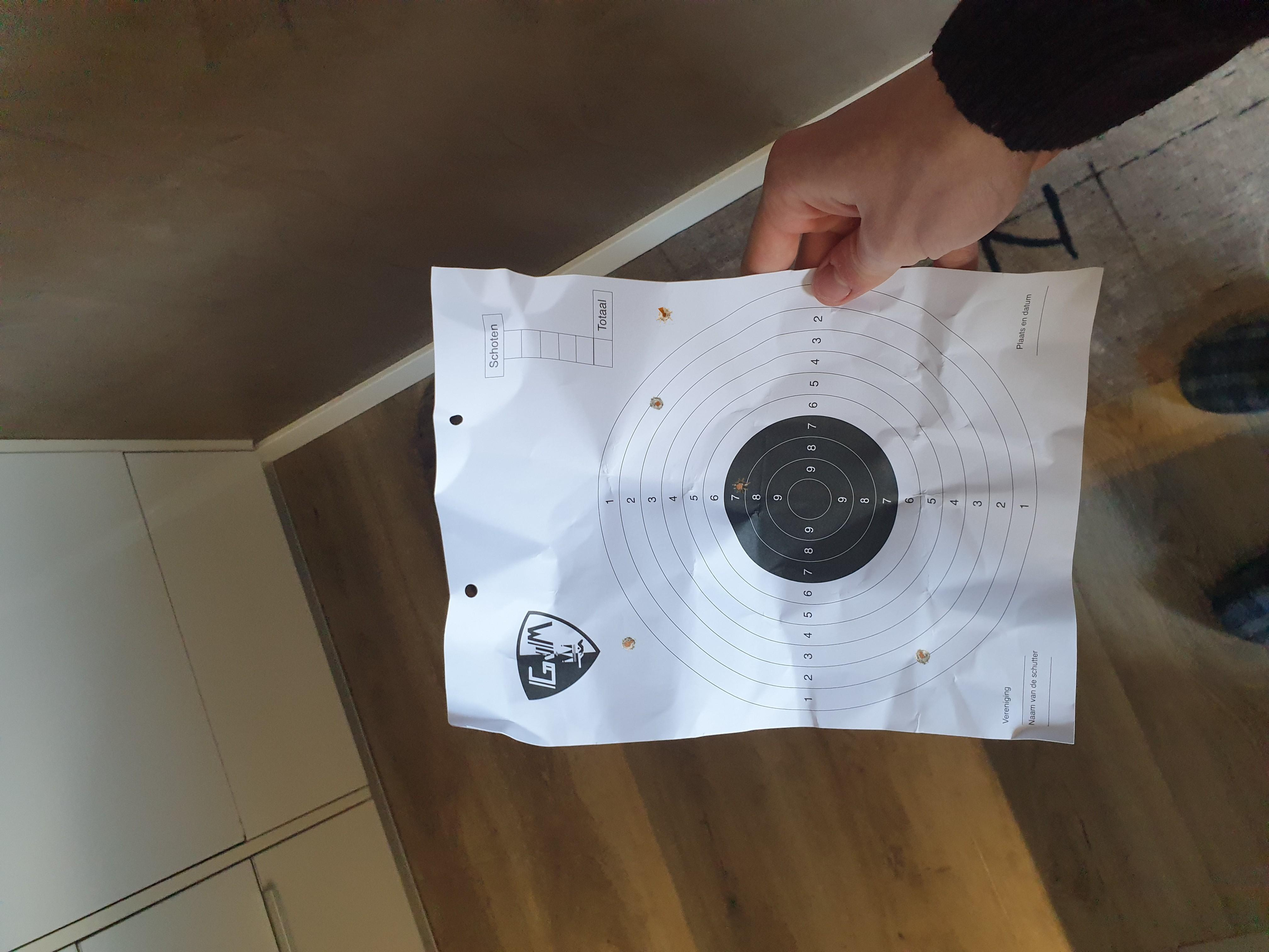hole: (733, 477, 751, 493), (657, 307, 672, 323), (915, 649, 930, 664), (649, 396, 664, 410), (622, 636, 636, 650)
